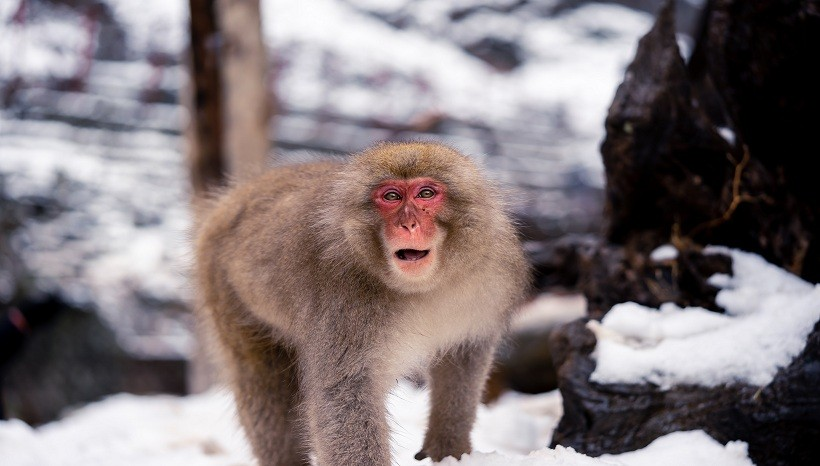monkey: (175, 134, 533, 466)
